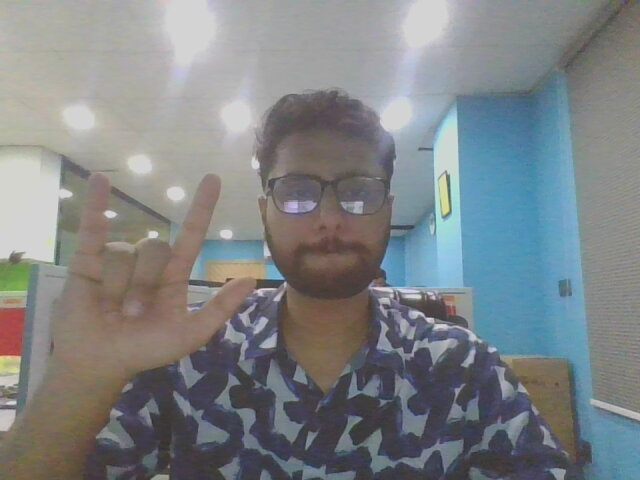iloveyou: (33, 158, 264, 430)
